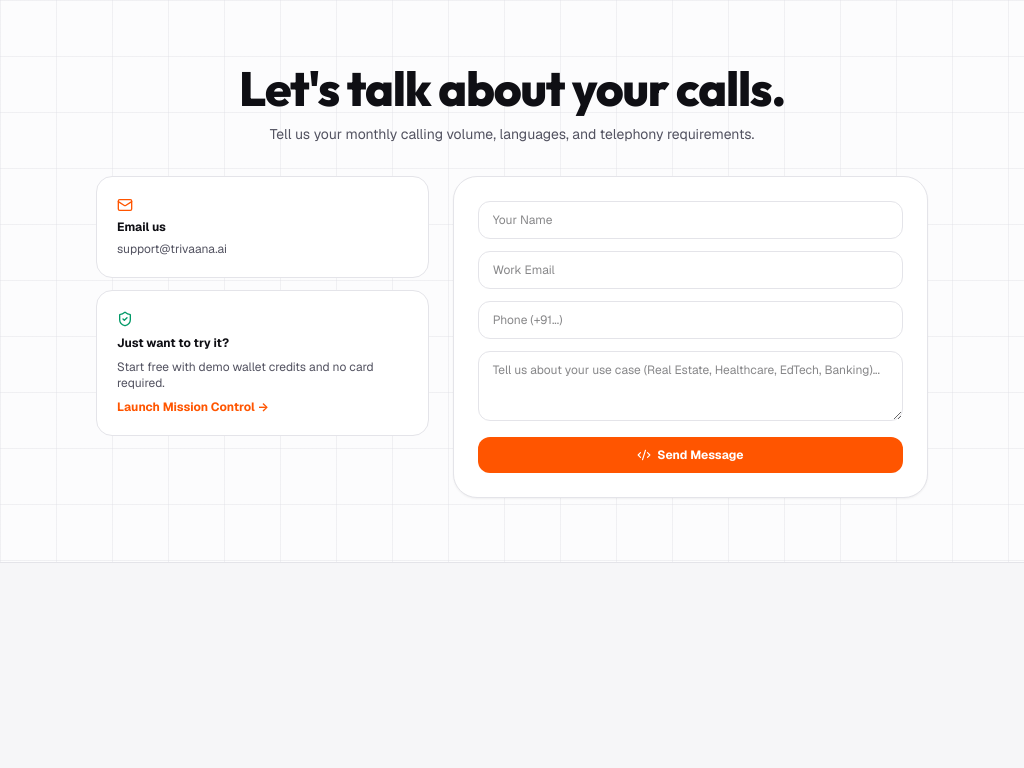
Test: Sprint D End-to-End Parity (RED -> GREEN) › submits PublicContactPage form to POST /api/public/contact
Type "Rohan Sharma" into the field with placeholder "Your Name" at (690, 220), box top-left (478, 201), bottom-right (903, 239)
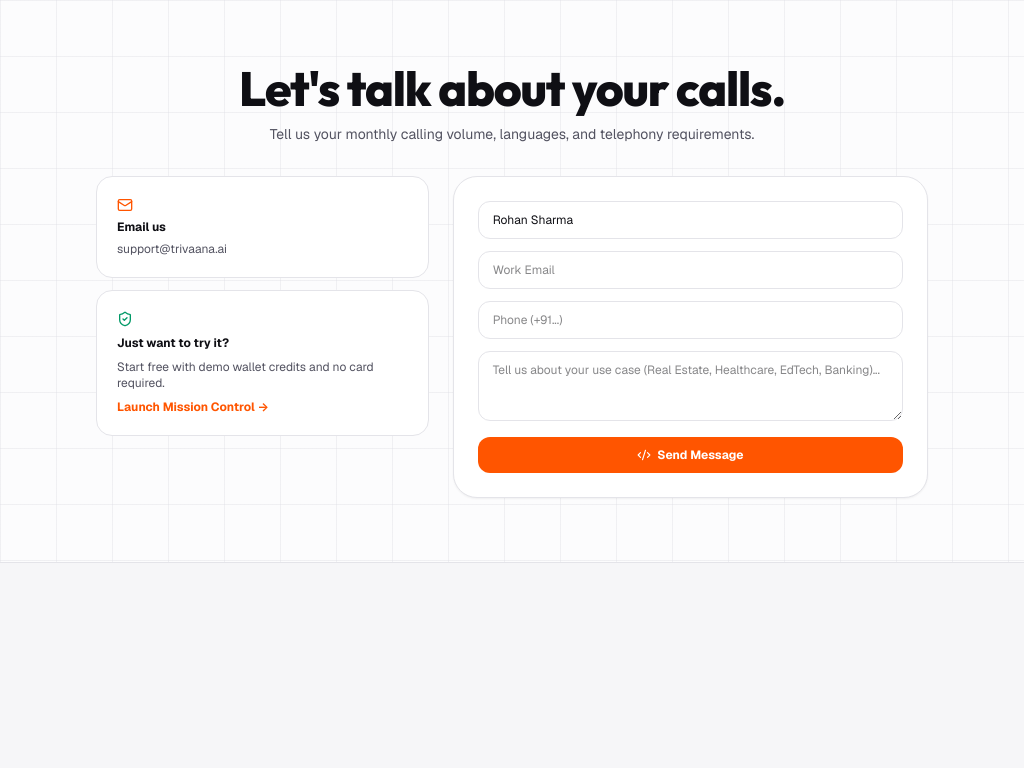
Type "rohan@acme.in" into the field with placeholder "Work Email" at (690, 270), box top-left (478, 251), bottom-right (903, 289)
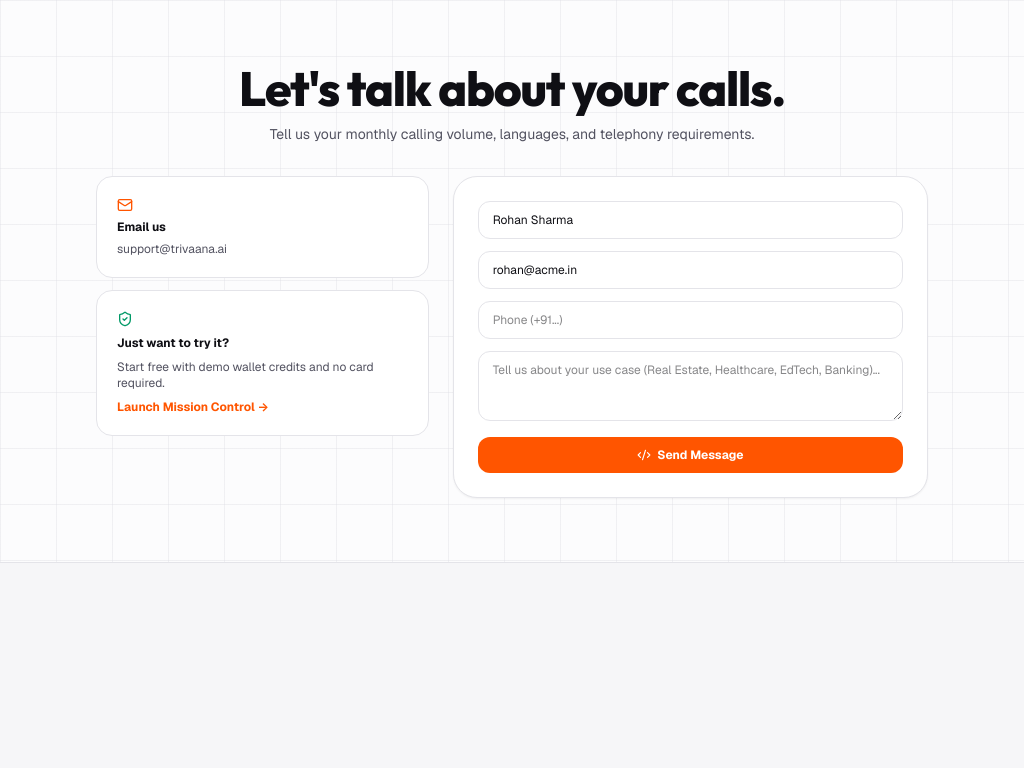
Replace the text in the text box with placeholder "Tell us about your use case" with "Need 20 channels in Hyderabad." at (690, 386), box top-left (478, 351), bottom-right (903, 421)
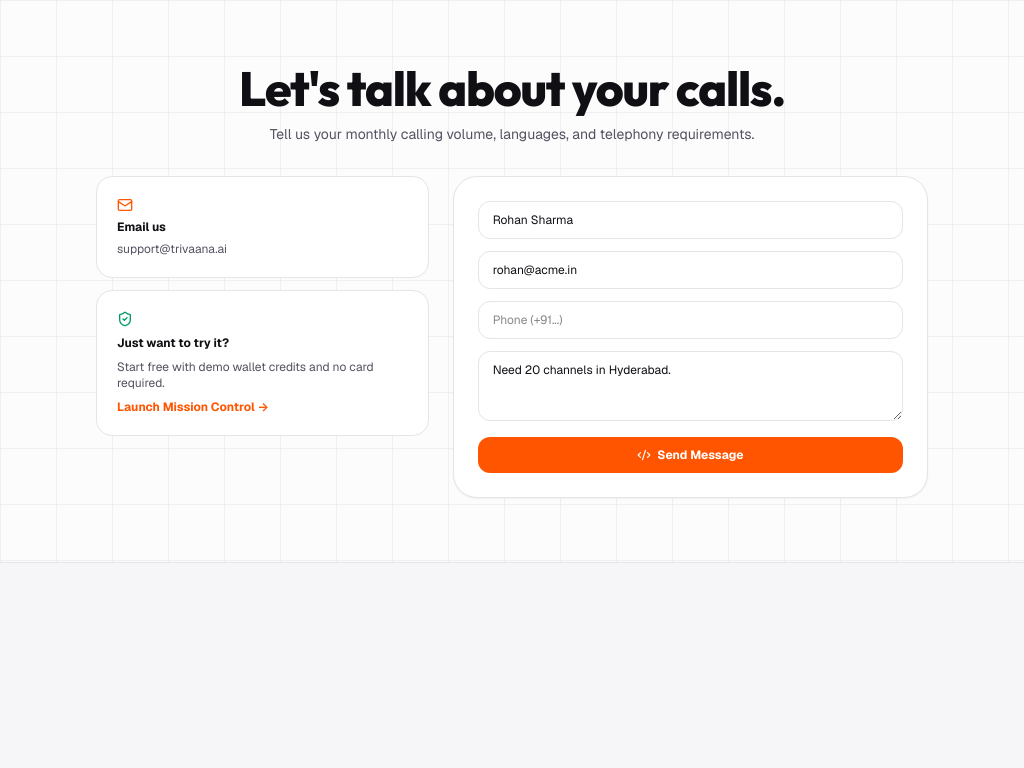
Click the button "Send Message" at (690, 455), box top-left (478, 437), bottom-right (903, 473)
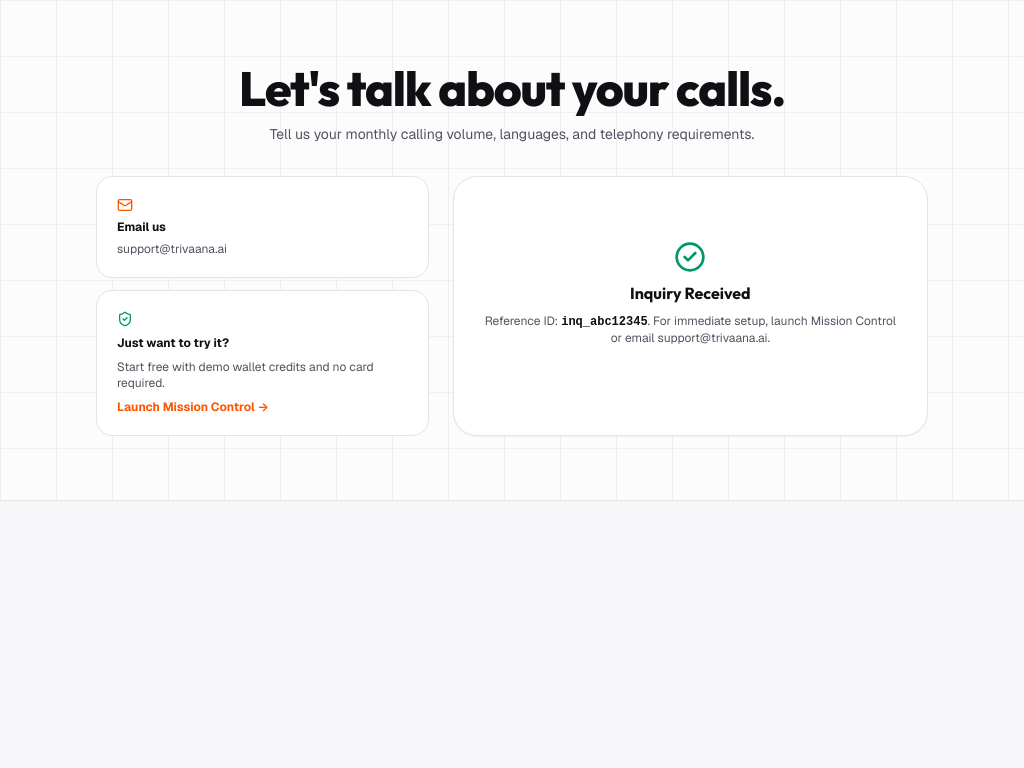
Result: the text "inq_abc12345" is shown at top-left (561, 315), bottom-right (648, 329)
